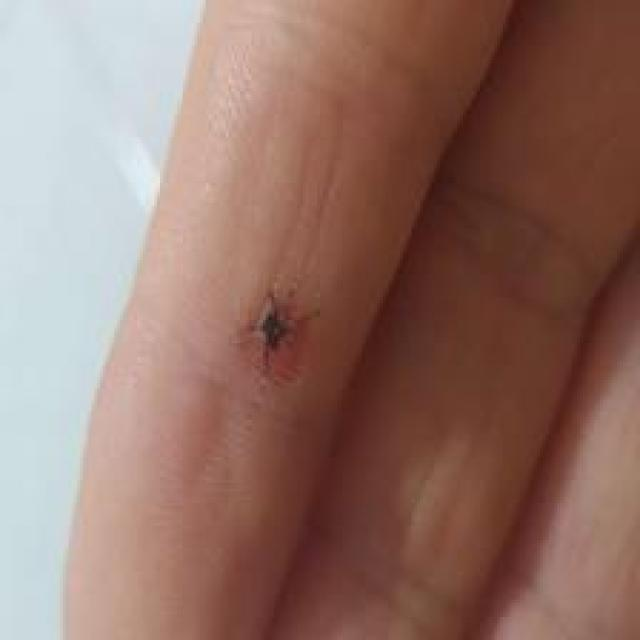Aedes albopictus: (240, 286, 320, 377)
